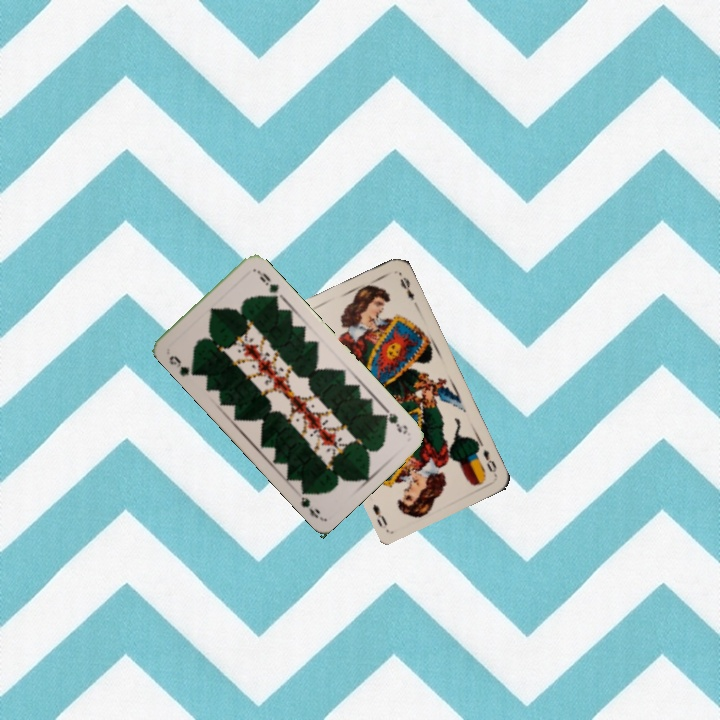EO: (479, 445, 499, 475)
G9: (378, 404, 411, 437), (165, 351, 197, 379)
